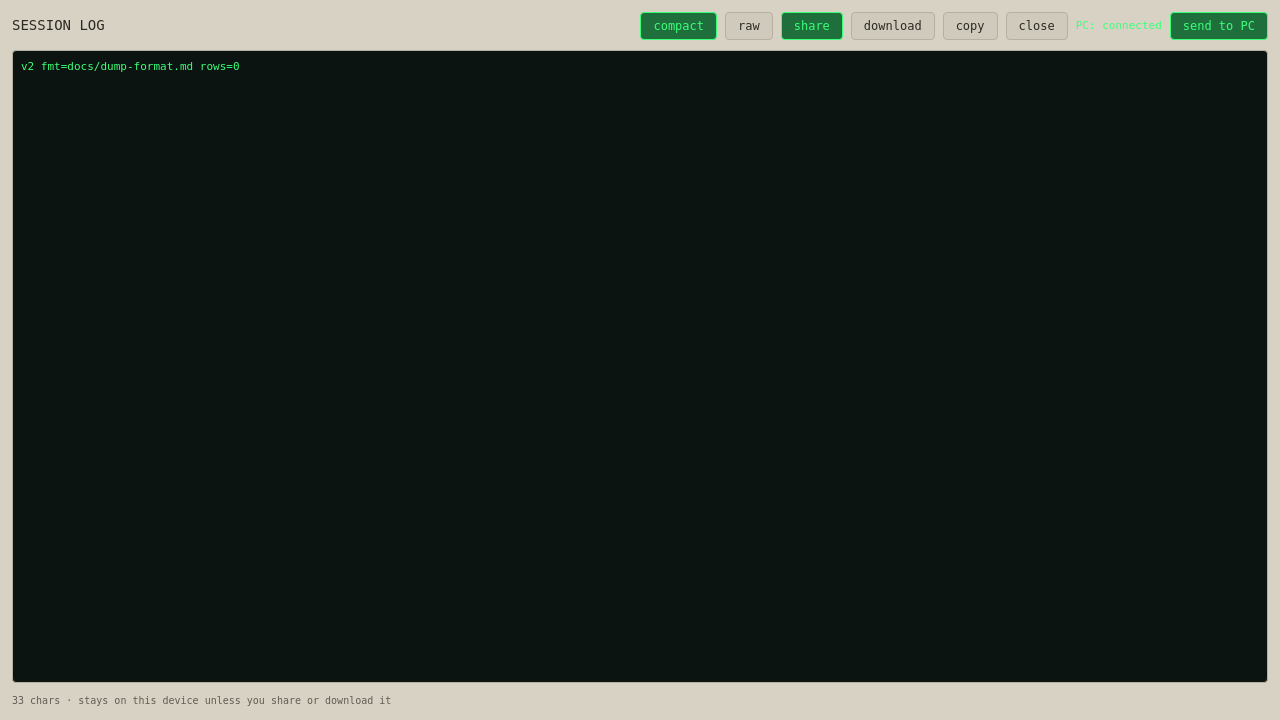
LogShare reporter row › says the send failed when the push did not land
The image size is (1280, 720).
What coordinates should you click on to do the following:
click the button "send to PC"
I would click on:
 (1219, 26)
Its box is [1170, 12, 1268, 40].
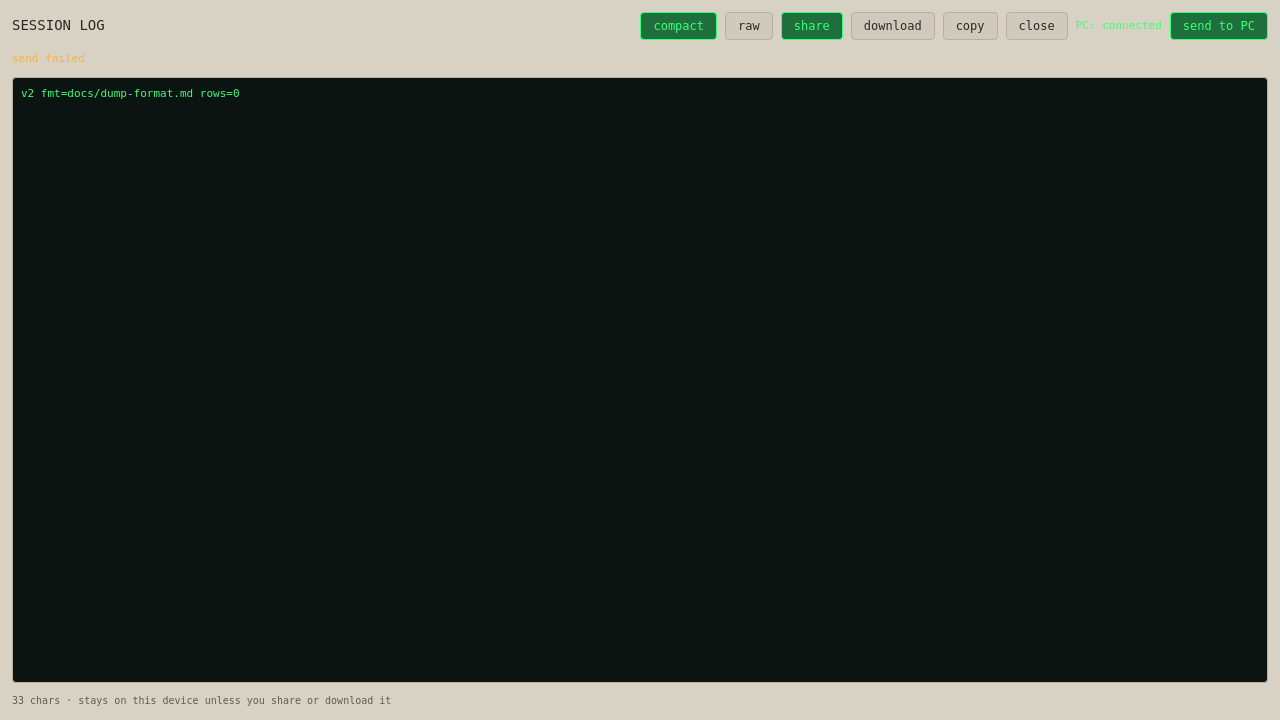
Expected: the text "send failed" is shown, [12, 52, 85, 65]
